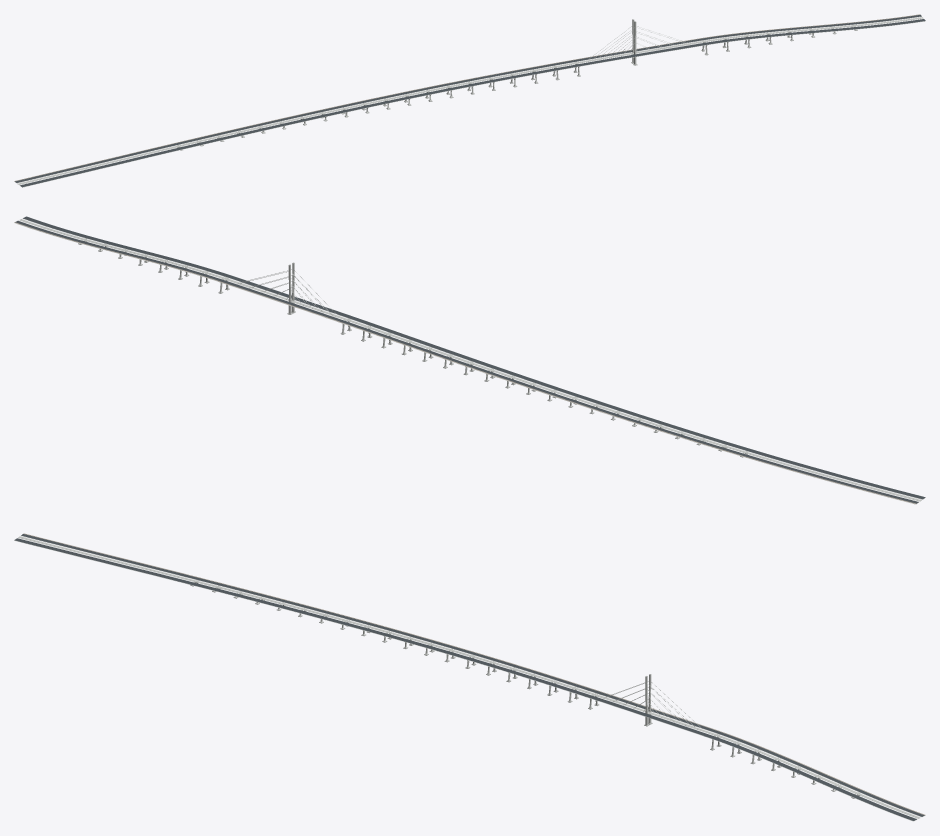
File: samuel-de-champlain-far.glb
3 renders of one model, top to bottom at view 1: azimuth 30°, elevation 25°; view 2: azimuth 150°, elevation 25°; view 3: azimuth 330°, elevation 25°, orthographic. The views are drawn at different scales.
Parts seen in each view (by area): view 1: span-0-asphalt, span-0-concrete, span-0-path, span-0-cables; view 2: span-0-asphalt, span-0-concrete, span-0-path; view 3: span-0-asphalt, span-0-concrete, span-0-path.
Part boxes in pixels (left/top/right/bottom): span-0-asphalt: left=15, top=14, right=925, bottom=187; span-0-concrete: left=14, top=14, right=925, bottom=187; span-0-path: left=14, top=14, right=919, bottom=181; span-0-cables: left=588, top=26, right=689, bottom=61; span-0-asphalt: left=15, top=216, right=925, bottom=503; span-0-concrete: left=14, top=218, right=925, bottom=504; span-0-path: left=14, top=222, right=916, bottom=503; span-0-asphalt: left=14, top=534, right=924, bottom=820; span-0-concrete: left=14, top=535, right=925, bottom=821; span-0-path: left=23, top=533, right=925, bottom=815.
Size of the model in its own units: 3450 by 170 by 450.
